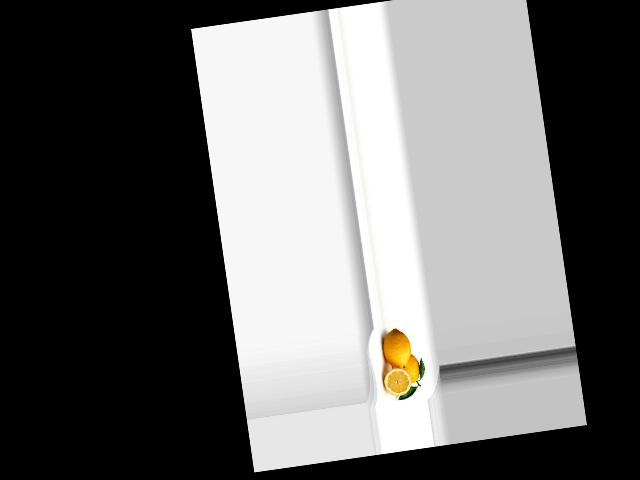lemon: (392, 351, 423, 389)
